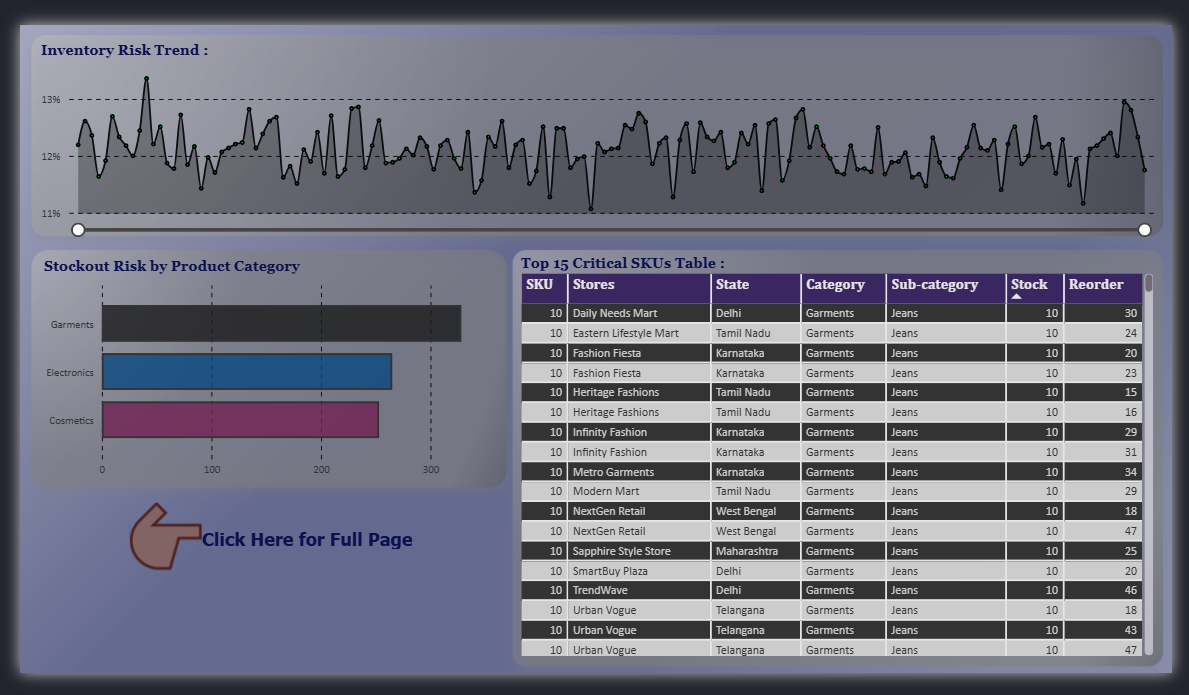

The page's visual inventory and layout, read from the dashboard file:
{"tool":"powerbi","page":{"name":"Inventory Risk Intelligence :-","canvas":[1280,720],"ordinal":6},"visuals":[{"type":"actionButton","box":[12.7,22.8,79.7,79.7],"z":0,"group":"g3"},{"type":"clusteredBarChart","title":"Stockout Risk by Product Category","fields":{"Category":["dim_products.category"],"Y":["MyMeasure.Critical SKU Locations"]},"box":[22,258,510,252],"z":0,"group":"g1"},{"type":"actionButton","title":"Table View Off Button","box":[117.5,525.7,323.5,90.5],"z":0},{"type":"actionButton","box":[14.1,619.7,79.7,79.7],"z":0,"group":"g2"},{"type":"group","id":"g1","title":"All Visuals ","box":[18,18,1246,686],"z":1000},{"type":"actionButton","box":[13.2,135,79.7,79.7],"z":1000,"group":"g3"},{"type":"tableEx","title":"Top 15 Critical SKUs Table :","fields":{"Values":["dim_products.sku_id","dim_stores.store_name","dim_stores.state","dim_products.category","dim_products.sub_category","fact_inventory_snapshots.on_hand","fact_inventory_snapshots.reorder_point"]},"box":[552,254,712,450],"z":1000,"group":"g1"},{"type":"actionButton","box":[108.4,619.7,79.7,79.7],"z":1000,"group":"g2"},{"type":"lineChart","title":"Inventory Risk Trend :","fields":{"Category":["fact_inventory_snapshots.snapshot_date"],"Y":["MyMeasure.Inventory Risk %"]},"box":[18,18,1246,220],"z":2000,"group":"g1"},{"type":"group","id":"g2","title":"All Buttons ","box":[12.7,22.8,175.4,676.6],"z":2000},{"type":"group","id":"g3","title":"Filter + Home Button","box":[12.7,22.8,80.2,191.9],"z":2000,"group":"g2"}]}

Visuals, with their boxes on the page's 1280x720 design canvas (x1, y1, x2, y2). These are canvas units, not pixel positions in the 1189x695 screenshot, which may show the page scaled, cropped or inside an application window:
actionButton: select_region(13, 23, 92, 102)
"Stockout Risk by Product Category" clusteredBarChart: select_region(22, 258, 532, 510)
"Table View Off Button" actionButton: select_region(118, 526, 441, 616)
actionButton: select_region(14, 620, 94, 699)
"All Visuals " group: select_region(18, 18, 1264, 704)
actionButton: select_region(13, 135, 93, 215)
"Top 15 Critical SKUs Table :" tableEx: select_region(552, 254, 1264, 704)
actionButton: select_region(108, 620, 188, 699)
"Inventory Risk Trend :" lineChart: select_region(18, 18, 1264, 238)
"All Buttons " group: select_region(13, 23, 188, 699)
"Filter + Home Button" group: select_region(13, 23, 93, 215)
